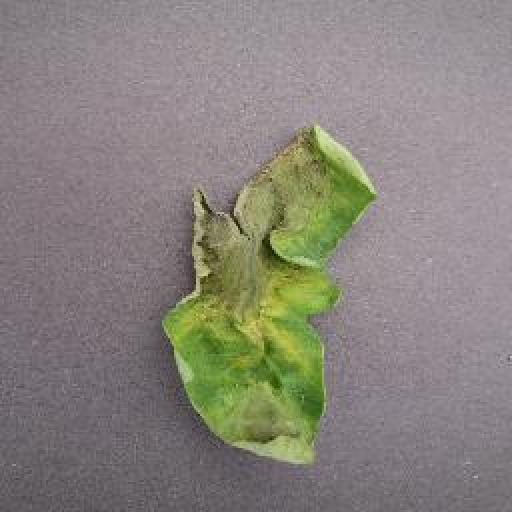Late Blight: (163, 121, 377, 467)
